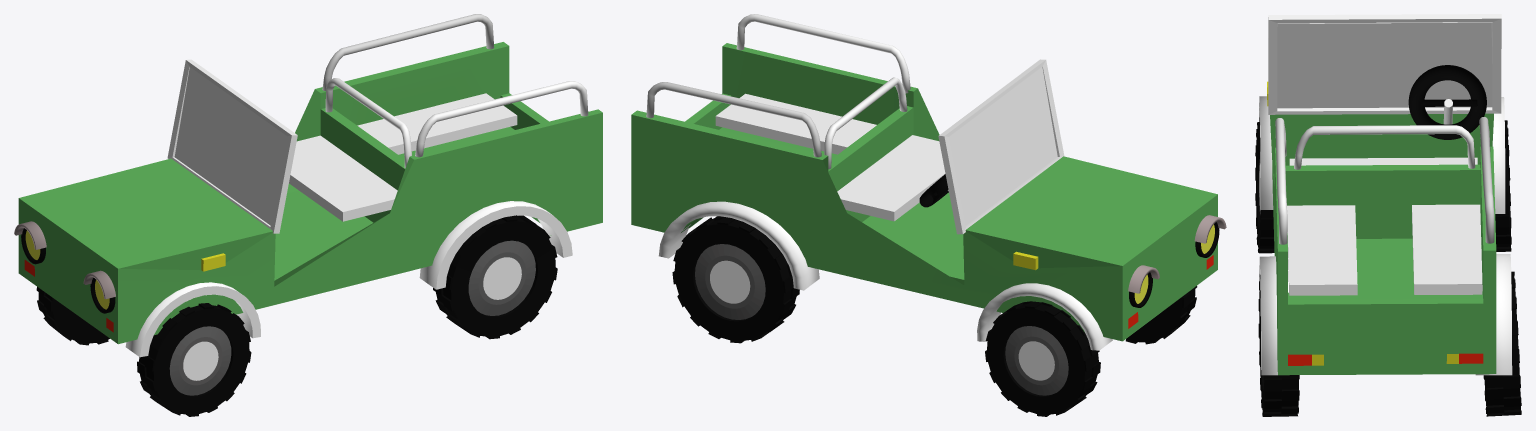
File: safari.fbx
3 renders of one model, left to right at view 1: azimuth 30°, elevation 25°; view 2: azimuth 150°, elevation 25°; view 3: azimuth 270°, elevation 25°, orthographic. The views are drawn at different scales.
Parts seen in each view (by area): view 1: Object_23, Object_26, Object_2, Object_12, Object_25, Object_17, Object_11, Object_14, Object_7, Object_24, Object_21, Object_18 (+3 smaller); view 2: Object_23, Object_26, Object_2, Object_12, Object_25, Object_19, Object_10, Object_14, Object_9, Object_24, Object_18, Object_21 (+3 smaller); view 3: Object_23, Object_2, Object_19, Object_17, Object_26, Object_14, Object_15, Object_11, Object_16, Object_10, Object_7, Object_12 (+5 smaller).
Boxes of the visible parts, box(x1,y1,x2,y2) form: Object_23: box(18, 42, 602, 344); Object_26: box(36, 215, 557, 416); Object_2: box(174, 67, 287, 225); Object_12: box(289, 135, 397, 221); Object_25: box(169, 240, 535, 395); Object_17: box(357, 93, 517, 154); Object_11: box(419, 201, 572, 289); Object_14: box(167, 59, 297, 233); Object_7: box(125, 282, 260, 357); Object_24: box(183, 257, 521, 380); Object_21: box(415, 81, 588, 157); Object_18: box(322, 14, 494, 91); Object_23: box(631, 43, 1217, 341); Object_26: box(672, 216, 1197, 416); Object_2: box(949, 67, 1057, 225); Object_12: box(837, 135, 945, 221); Object_25: box(695, 244, 1068, 395); Object_19: box(715, 93, 876, 154); Object_10: box(658, 201, 819, 290); Object_14: box(938, 59, 1064, 234); Object_9: box(977, 283, 1112, 350); Object_24: box(710, 260, 1054, 380); Object_18: box(646, 82, 821, 157); Object_21: box(736, 14, 910, 93); Object_23: box(1270, 113, 1496, 375); Object_2: box(1277, 22, 1492, 108); Object_19: box(1287, 205, 1357, 295); Object_17: box(1412, 204, 1482, 294); Object_26: box(1255, 120, 1521, 416); Object_14: box(1268, 14, 1501, 114); Object_15: box(1408, 65, 1486, 139); Object_11: box(1259, 256, 1288, 375); Object_16: box(1294, 125, 1475, 169); Object_10: box(1475, 254, 1512, 375); Object_7: box(1259, 96, 1273, 209); Object_12: box(1289, 157, 1477, 165).
Bounding box in the file's own units: 226 × 110 × 93.08.
